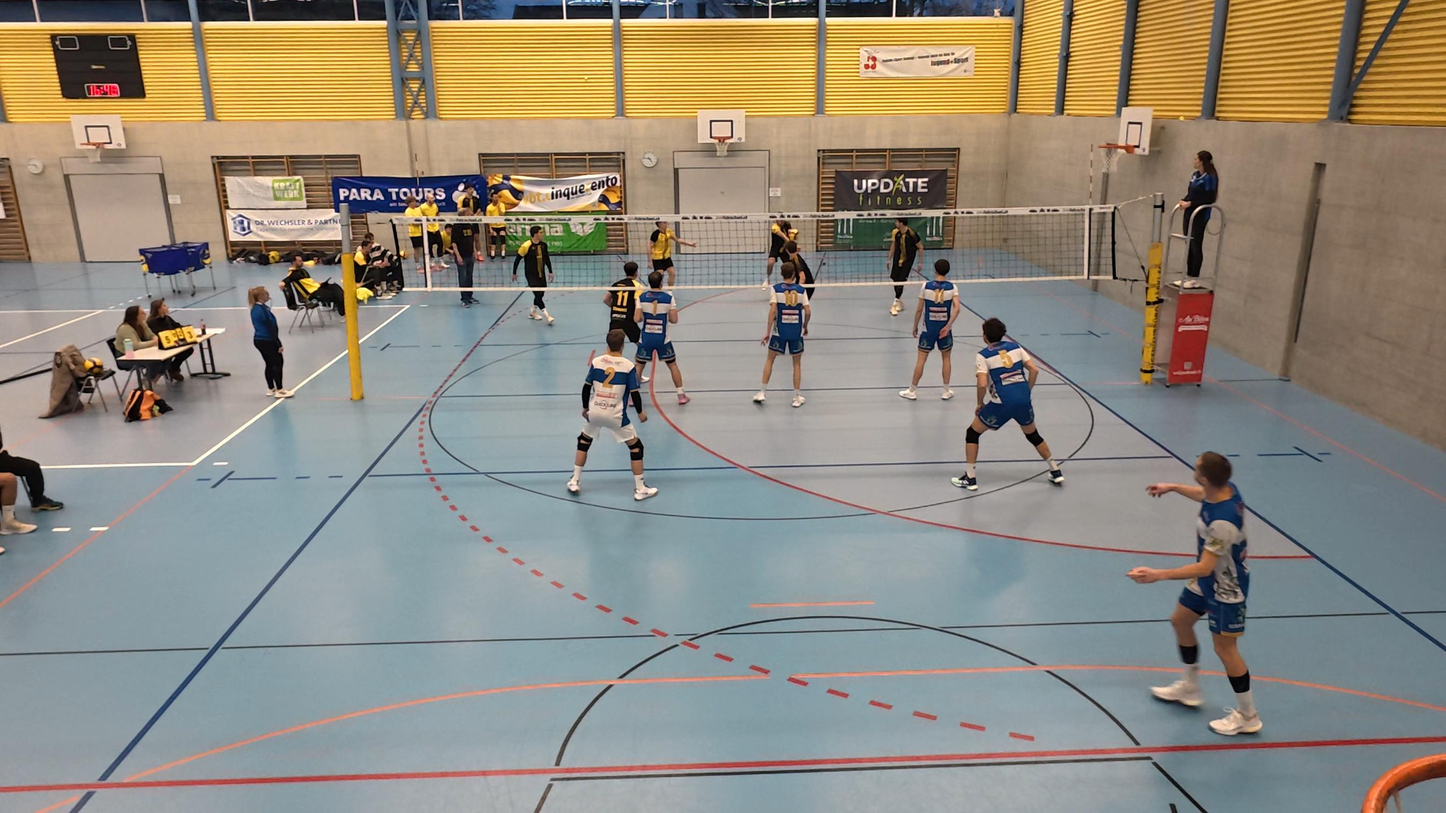Player: (1131, 452, 1263, 735), (956, 318, 1067, 490), (568, 329, 658, 500), (901, 260, 963, 402), (753, 259, 812, 408), (634, 264, 691, 406), (600, 258, 652, 386), (516, 225, 556, 327), (886, 214, 923, 316), (644, 219, 678, 290)
Receive: (761, 207, 801, 285)
ball: (784, 224, 801, 242)
